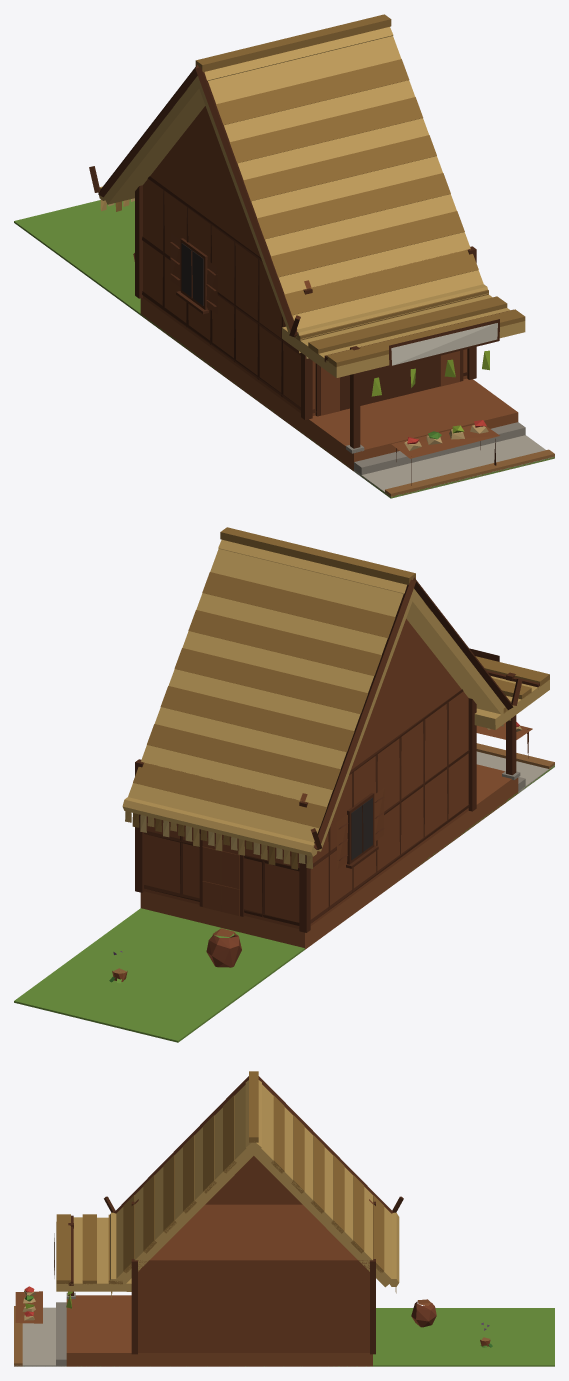
The model's file is bay1_left.glb.
The picture shows the model from 3 angles, top to bottom: view 1: azimuth 30°, elevation 25°; view 2: azimuth 150°, elevation 25°; view 3: azimuth 270°, elevation 25°; orthographic projection. The views are drawn at different scales.
Visible parts, largest first — view 1: body, windows; view 2: body, windows; view 3: body.
Boxes of the visible parts, x1,y1,x2,y2 form: body: (14, 14, 554, 498); windows: (181, 243, 203, 305); body: (14, 527, 554, 1042); windows: (351, 797, 372, 860); body: (14, 1071, 554, 1366).
Size of the model in its own units: 4.86 by 7.59 by 15.9.
